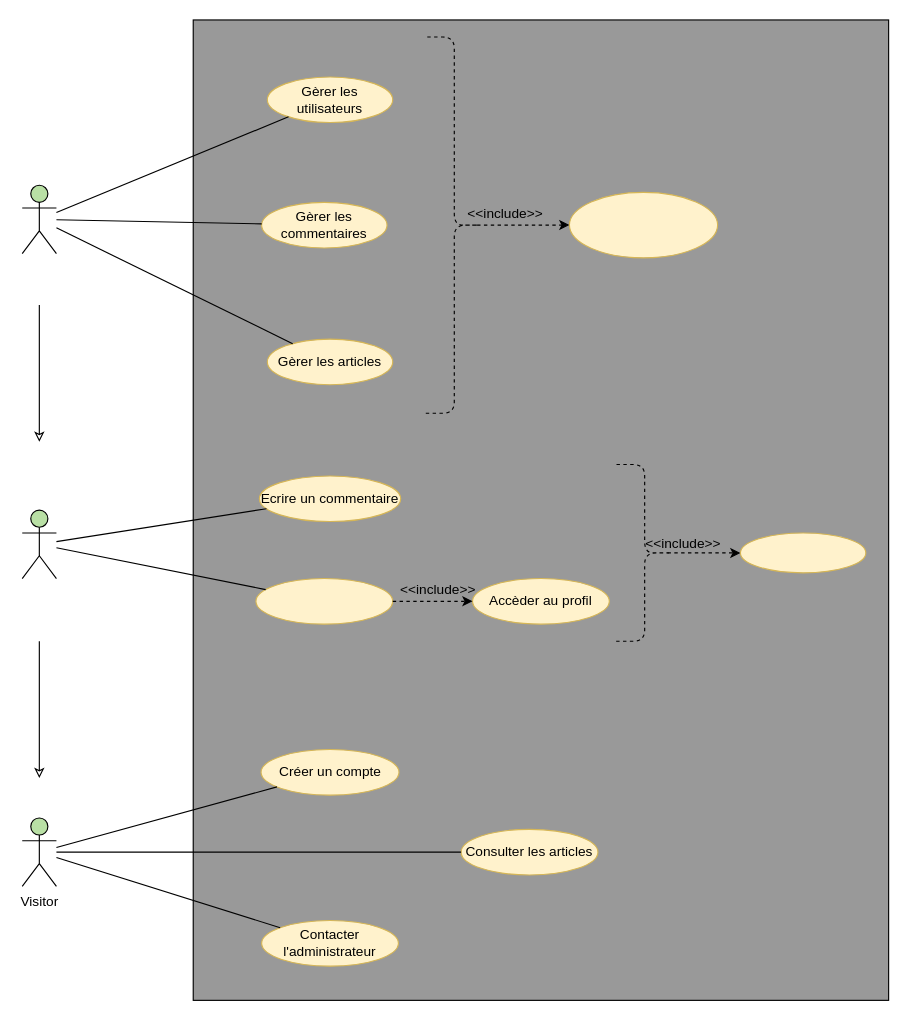
The diagram is 909 pixels wide and 1020 high, and some of its shapes have lost their labels. The centre of each missing label's shape, as x and y in pixels:
"Accèder au panneau d'administration" goes at (643,224).
"Admin" goes at (38,219).
"Gèrer son compte" goes at (324,600).
"Se connecter" goes at (802,552).
"User" goes at (38,544).
